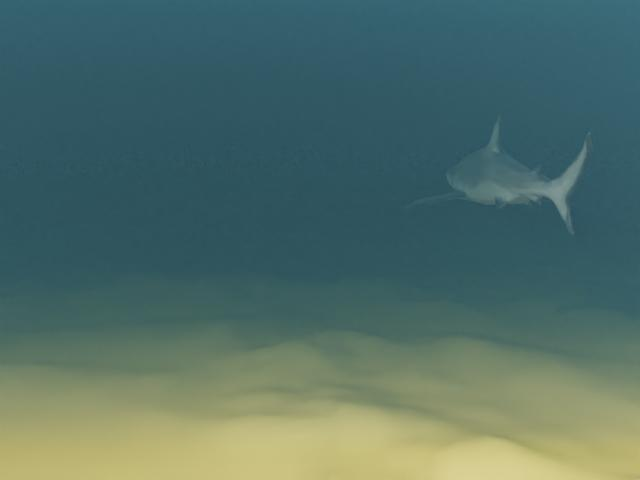Carribean Shark.001: (403, 114, 592, 234)
